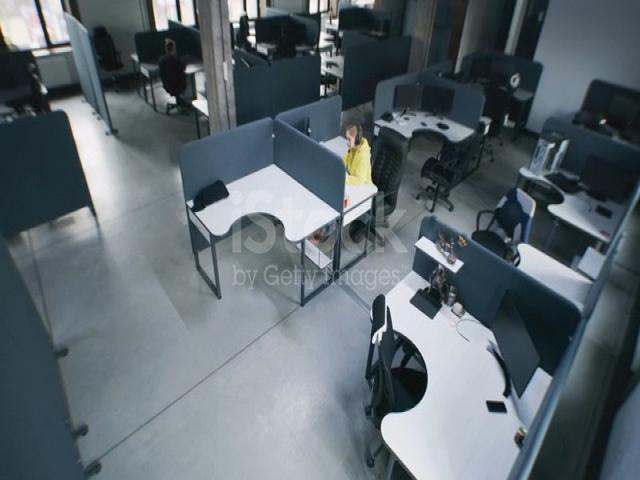empty chair: (348, 285, 435, 480), (475, 169, 530, 275), (84, 11, 134, 104), (12, 57, 62, 141), (421, 108, 459, 214), (472, 63, 503, 162), (312, 34, 345, 91)
occupiedchair: (338, 112, 410, 252), (148, 13, 202, 118), (582, 73, 640, 161)
